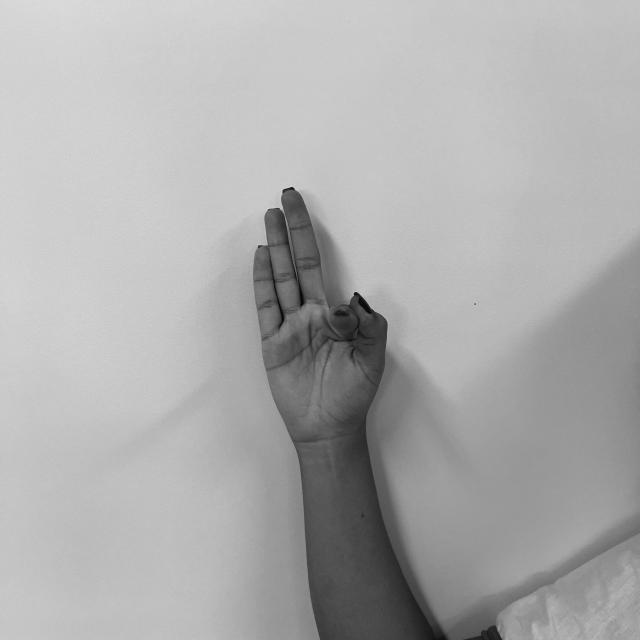Letra F: (245, 182, 394, 446)
